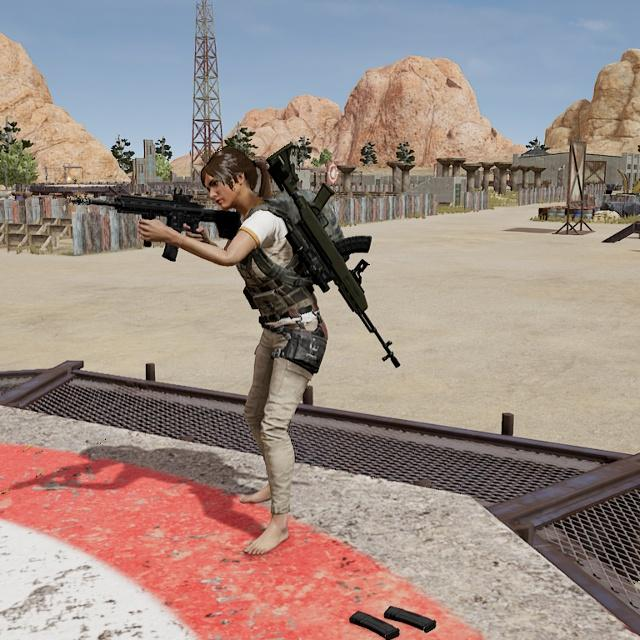head: (198, 146, 263, 216)
people: (198, 146, 328, 560)
